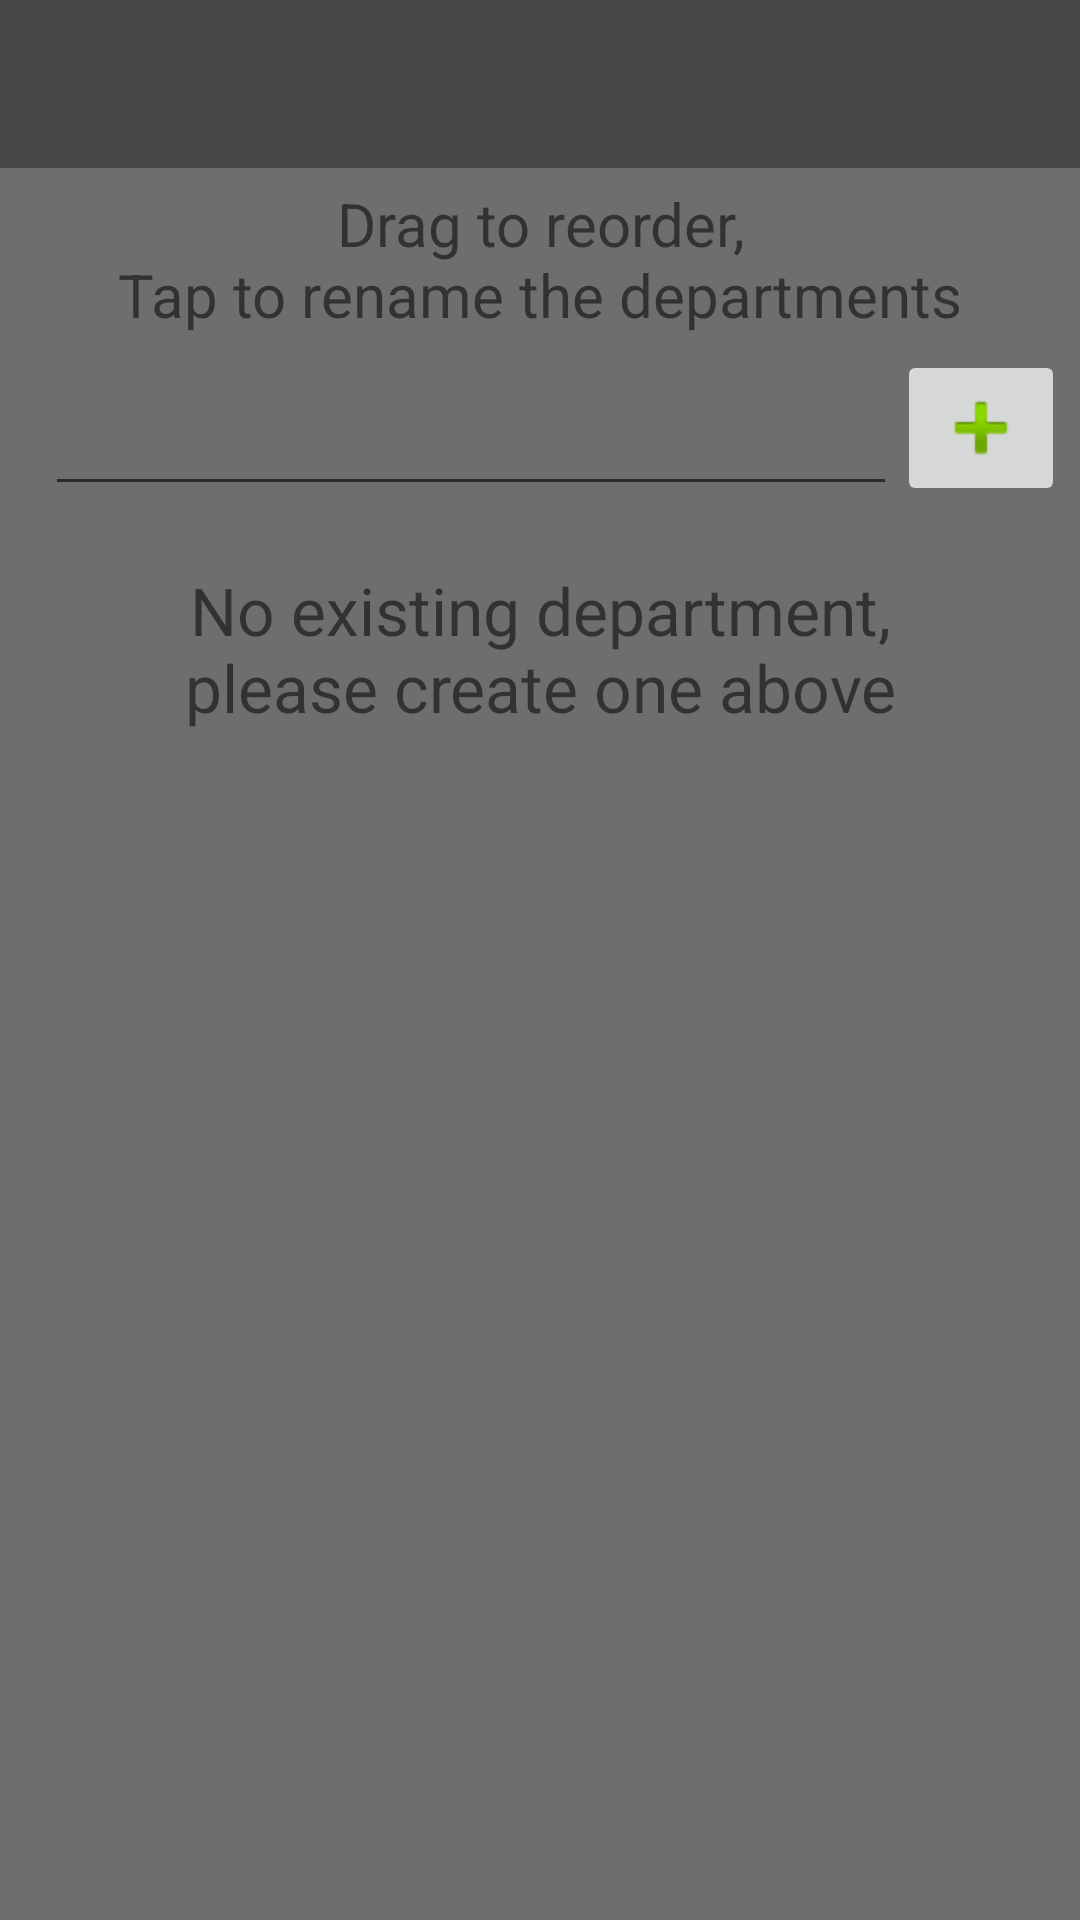

Icons on this 1080w x 1920h Android screen, each with its box as (x1, y1, x2, y2):
add: (909, 368, 1053, 488)
